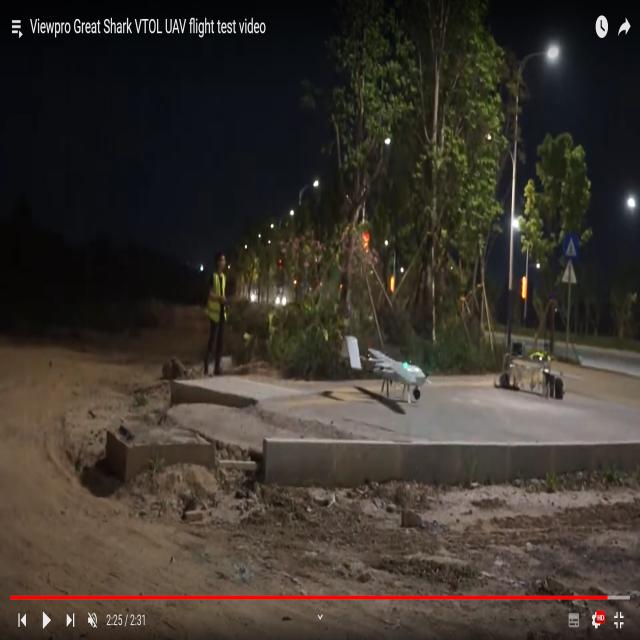iha: (373, 365, 398, 371)
